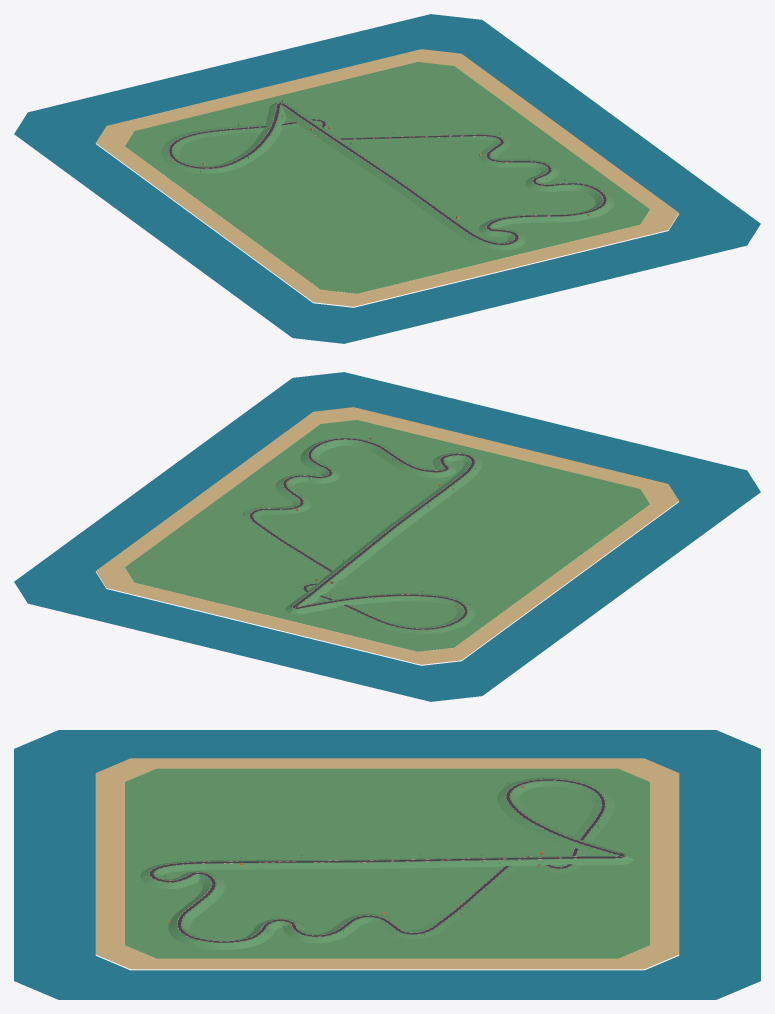
File: monza.glb
The picture shows the model from 3 angles, top to bottom: view 1: azimuth 30°, elevation 25°; view 2: azimuth 150°, elevation 25°; view 3: azimuth 270°, elevation 25°; orthographic projection. The views are drawn at different scales.
Parts seen in each view (by area): view 1: island_vegetation, ocean, sand_island, track_embankment, track_surface, track_runoff, track_curbs; view 2: island_vegetation, ocean, sand_island, track_embankment, track_surface, track_runoff, track_curbs; view 3: island_vegetation, ocean, sand_island, track_embankment, track_surface, track_runoff, track_curbs.
Part boxes in pixels (x1,y1,x2,y2): island_vegetation: (125, 62, 649, 293); ocean: (14, 14, 760, 343); sand_island: (96, 49, 678, 306); track_embankment: (161, 103, 614, 250); track_surface: (169, 103, 606, 244); track_runoff: (168, 103, 607, 245); track_curbs: (169, 103, 606, 244); island_vegetation: (125, 420, 649, 651); ocean: (14, 372, 760, 701); sand_island: (96, 407, 678, 664); track_embankment: (242, 438, 482, 634); track_surface: (250, 438, 474, 629); track_runoff: (249, 438, 475, 630); track_curbs: (249, 438, 474, 629); island_vegetation: (125, 768, 649, 958); ocean: (14, 730, 760, 999); sand_island: (95, 758, 679, 969); track_embankment: (140, 777, 634, 949); track_surface: (149, 779, 624, 942); track_runoff: (148, 778, 626, 942); track_curbs: (149, 779, 624, 942).
Bounding box in the file's own units: 2058 × 26.72 × 2407.
